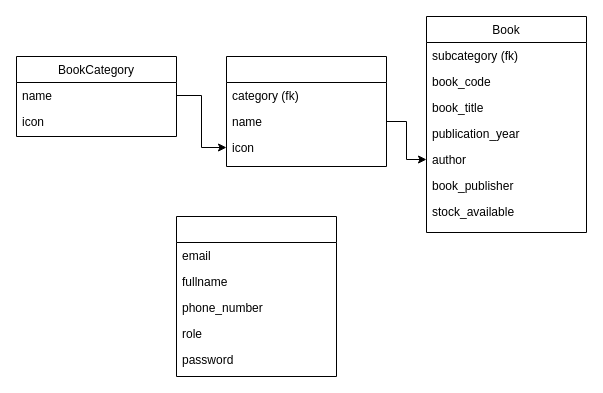
This 603x393 diagram has some shape labels left out. The shapes that lost their labels are listed below. From the top down, each one's box as (x1, y1, x2, y2) in pixels, then its label:
(226, 56, 386, 166): BookSubCategory
(176, 216, 336, 376): User
